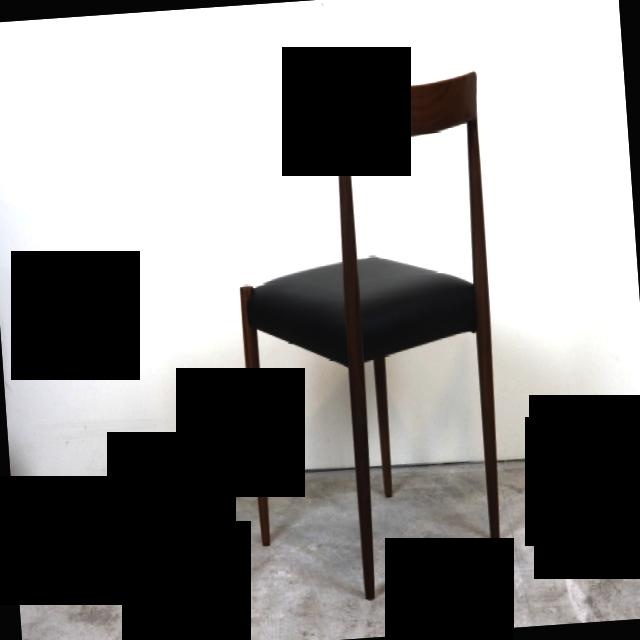chair vintage: (220, 65, 518, 610)
